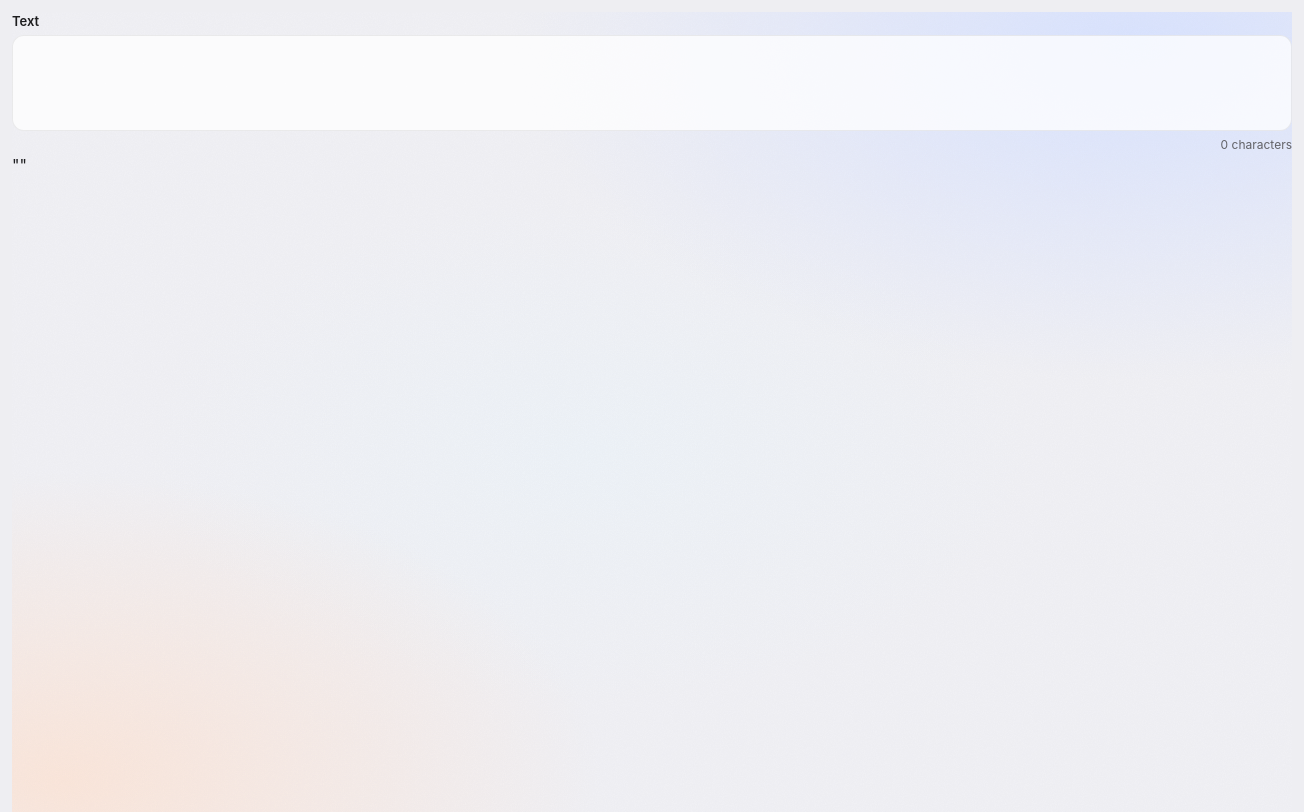
Scenario: TextArea › preserves leading/trailing whitespace in its value
Step 1. Type "  hello  " into the text box labelled "Text" → (652, 83), box [12,35,1292,131]
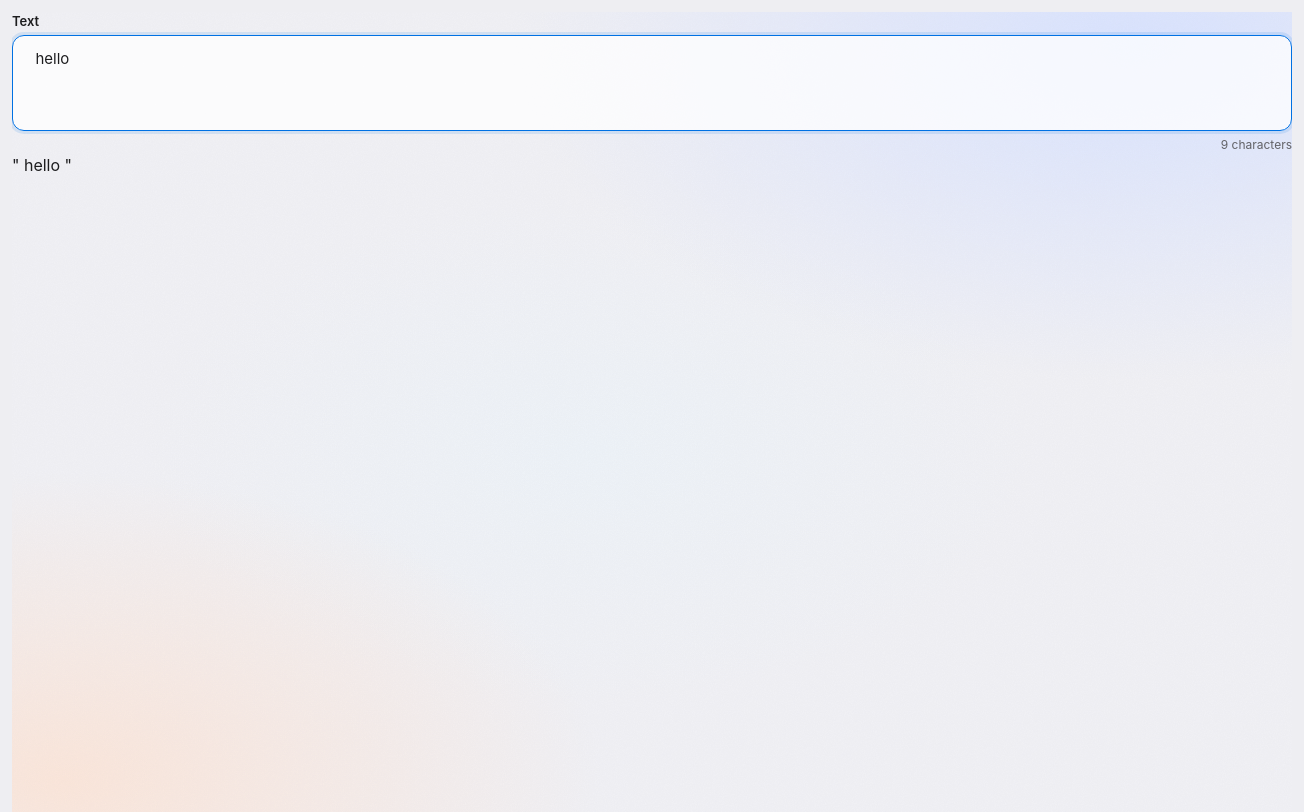
Expected: the text with test id "value" reads "\" hello \"", [12,155,72,175]
